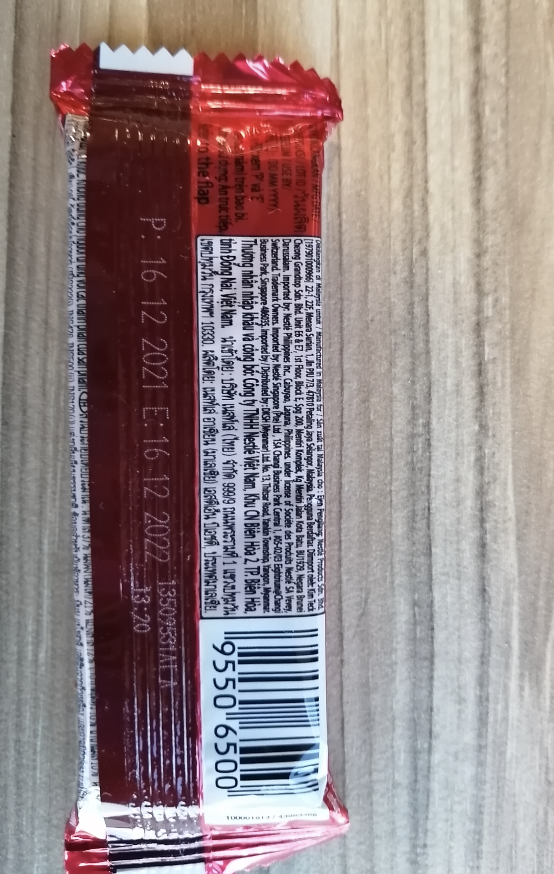Kitkat: (80, 122, 325, 816)
